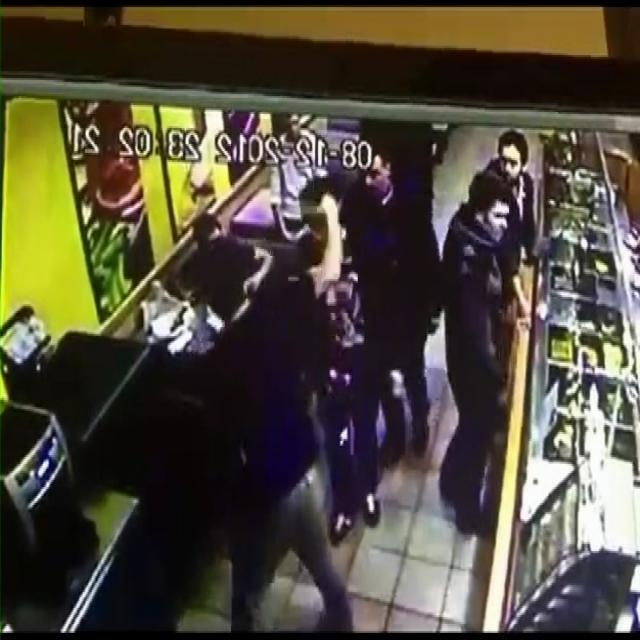fight: (205, 194, 368, 640)
